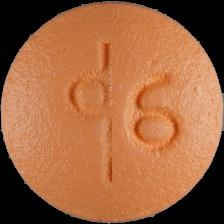54868-5415: (0, 0, 224, 224)
